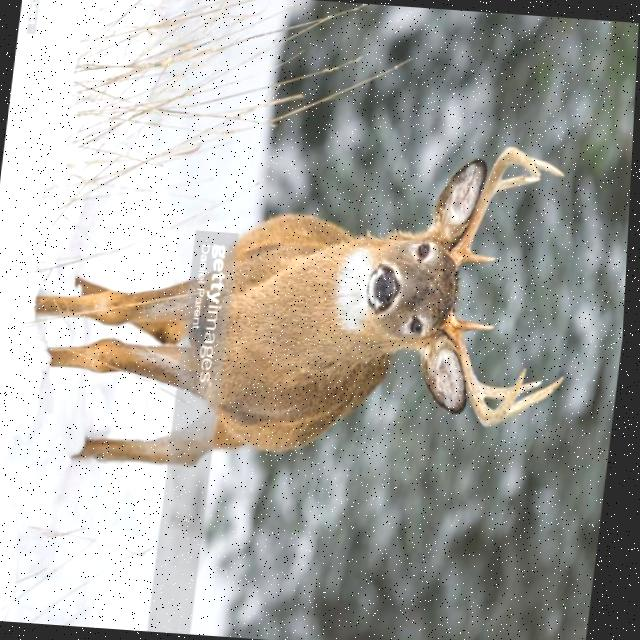L-F: (445, 307, 530, 426)
L-G1: (464, 319, 499, 332)
R-F: (449, 145, 542, 268)
R-G1: (467, 249, 499, 262)
R-G2: (496, 172, 543, 192)
